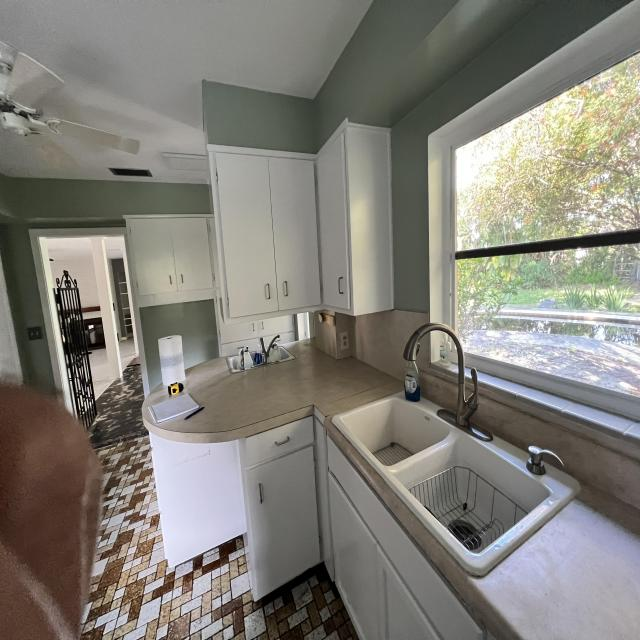Appliance_Sink: (331, 323, 581, 578), (226, 334, 295, 375)
Cabinet_Flat: (124, 121, 351, 380), (328, 439, 484, 640), (239, 417, 322, 604)
Cabinet_Shaker: (325, 467, 443, 640)
Countertop_Laminate: (142, 340, 640, 640)
